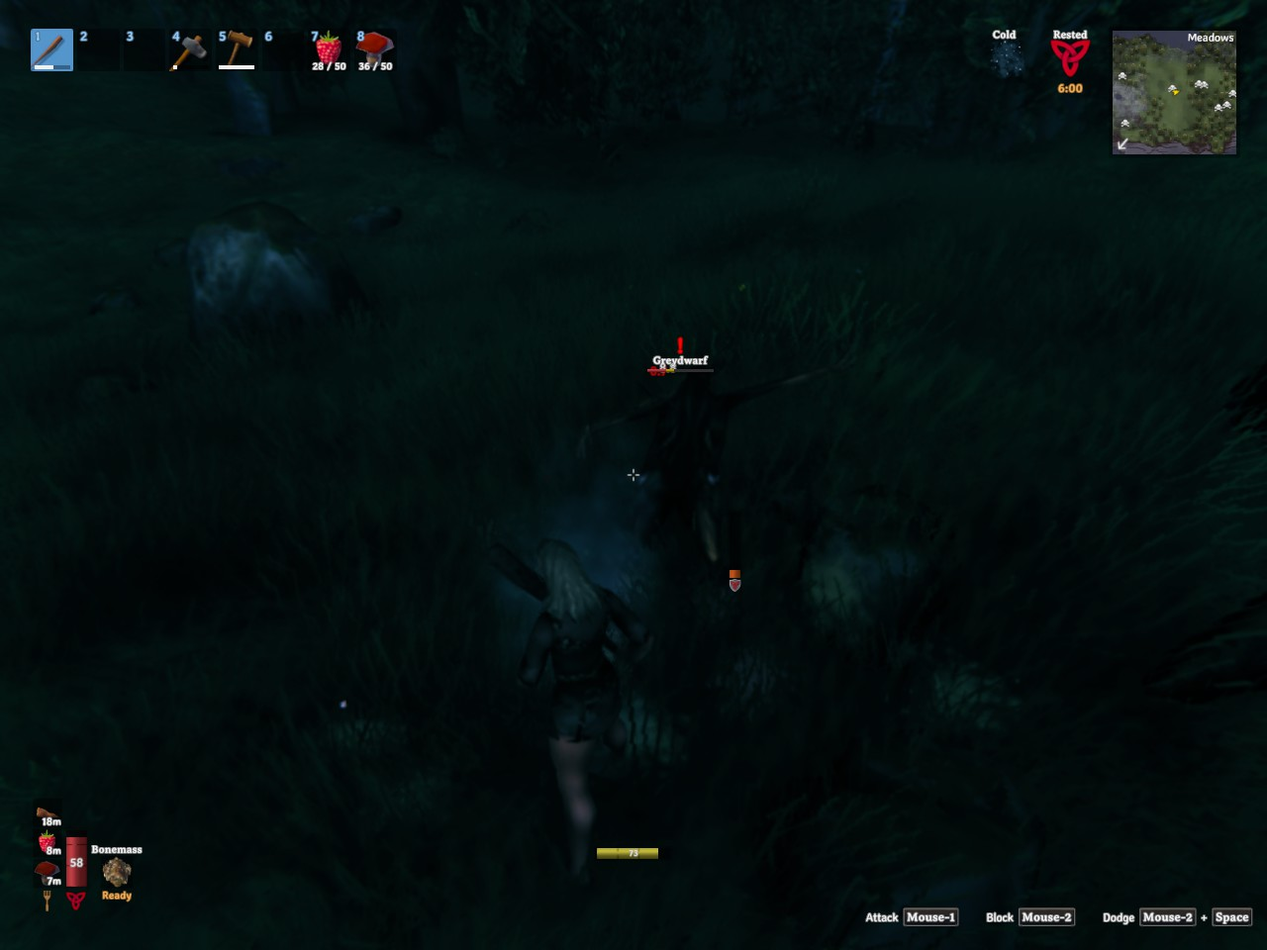Greydwarf: (578, 368, 830, 561)
